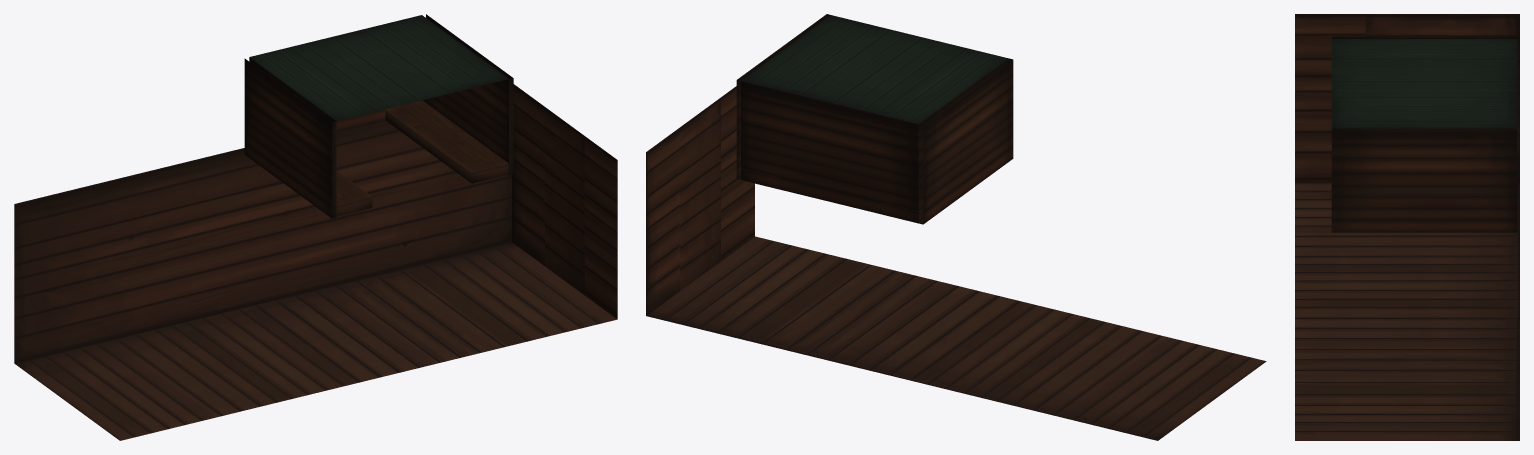
Rendered from CabooseShell.fbx.
The picture shows the model from 3 angles, left to right: view 1: azimuth 30°, elevation 25°; view 2: azimuth 150°, elevation 25°; view 3: azimuth 270°, elevation 25°; orthographic projection. The views are drawn at different scales.
Parts seen in each view (by area): view 1: carriageshell3, Carriage4_room1, top_floor2, top_floor3; view 2: carriageshell3, Carriage4_room1; view 3: carriageshell3, Carriage4_room1.
Part boxes in pixels (x1,y1,x2,y2): carriageshell3: [14, 84, 617, 440]; Carriage4_room1: [244, 14, 513, 218]; top_floor2: [385, 100, 508, 183]; top_floor3: [336, 171, 372, 216]; carriageshell3: [646, 86, 1266, 440]; Carriage4_room1: [736, 14, 1013, 224]; carriageshell3: [1295, 14, 1519, 440]; Carriage4_room1: [1331, 36, 1517, 232].
Size of the model in its own units: 110 by 52.92 by 40.6.
